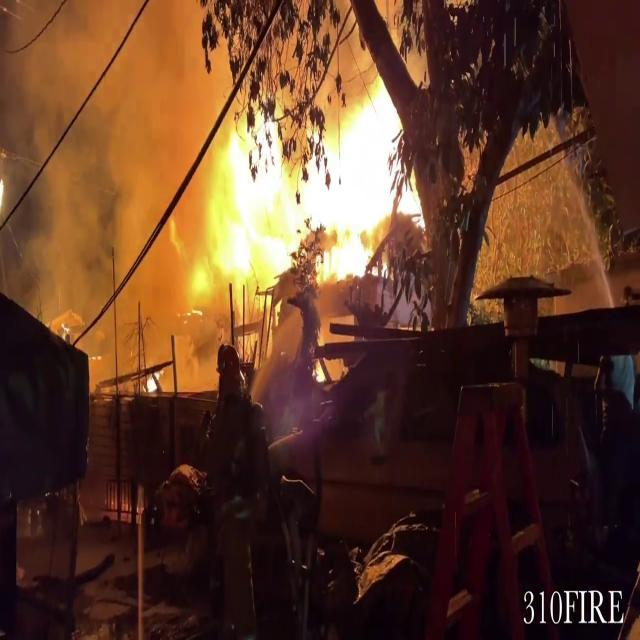Fire: (190, 80, 432, 291)
Smoke: (0, 0, 218, 368)
